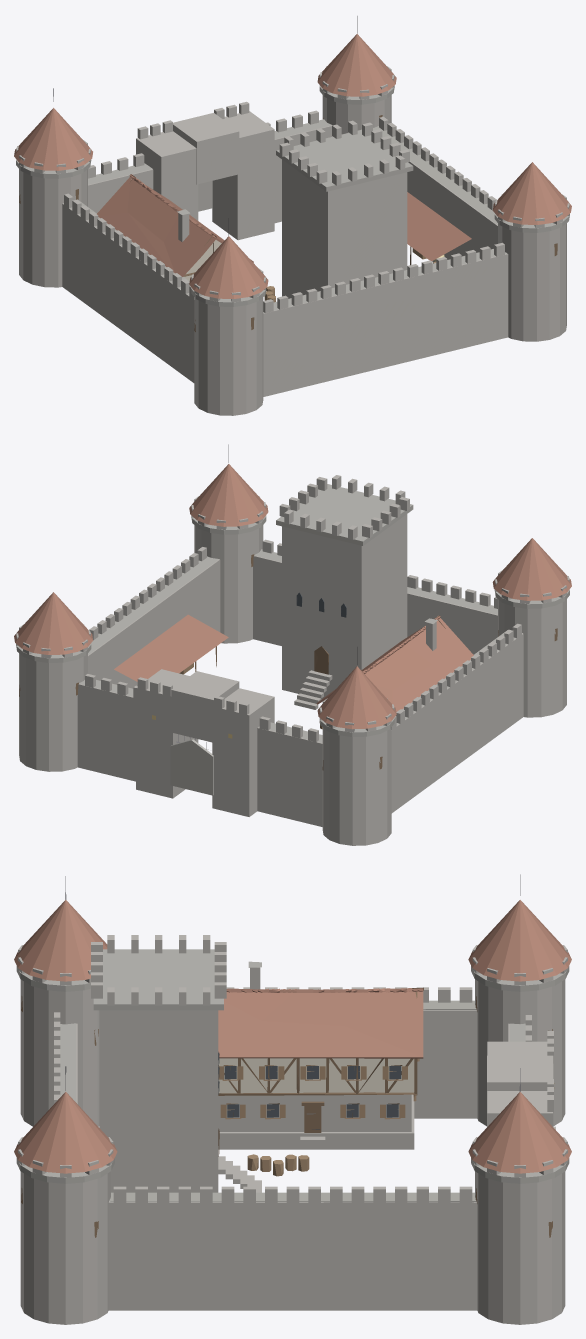
File: castle_lod1.glb
The picture shows the model from 3 angles, top to bottom: view 1: azimuth 30°, elevation 25°; view 2: azimuth 150°, elevation 25°; view 3: azimuth 270°, elevation 25°; orthographic projection. The views are drawn at different scales.
Visible parts, largest first — view 1: castle.001; view 2: castle.001; view 3: castle.001.
Boxes of the visible parts, left/top/right/bottom form: castle.001: left=14, top=16, right=571, bottom=415; castle.001: left=14, top=444, right=571, bottom=845; castle.001: left=14, top=874, right=571, bottom=1324.
Size of the model in its own units: 42 by 20.45 by 42.
